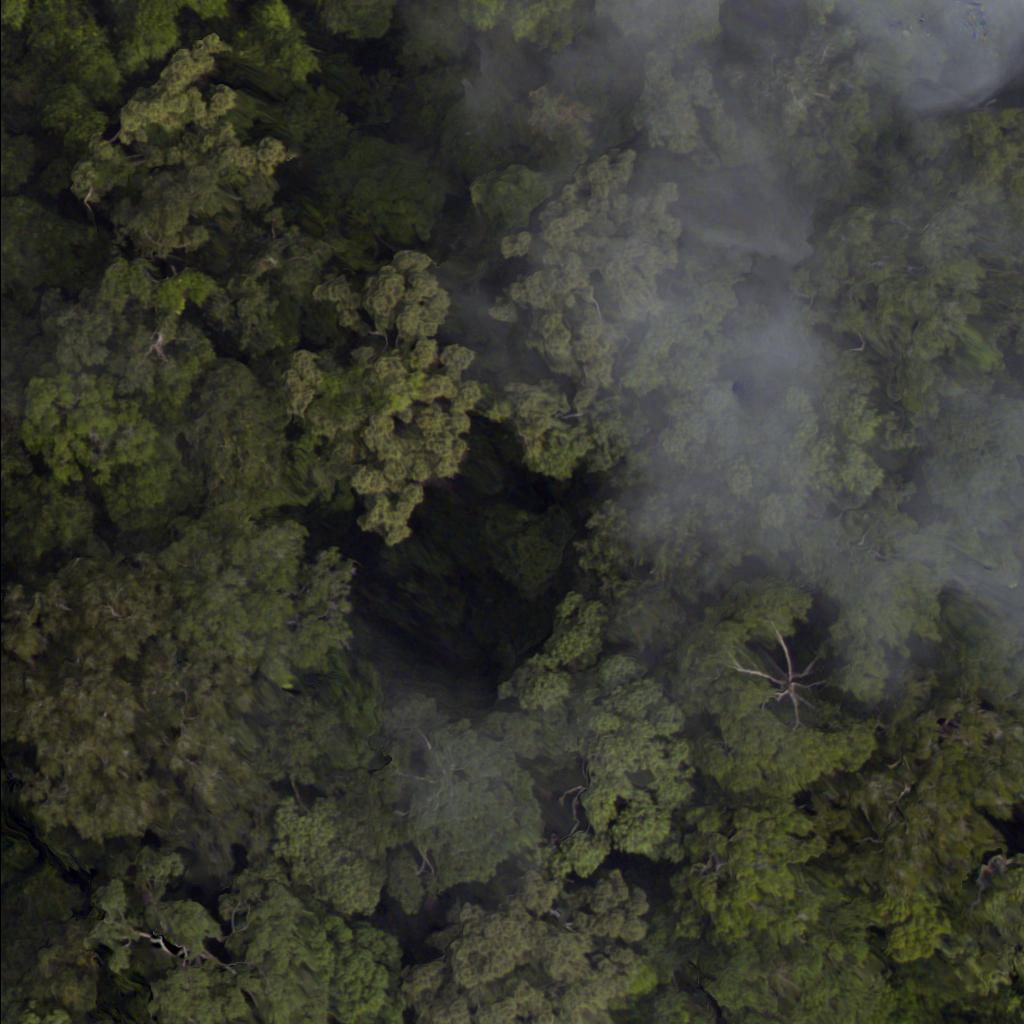crown: (0, 546, 373, 863), (286, 273, 490, 538), (417, 876, 662, 1023)
